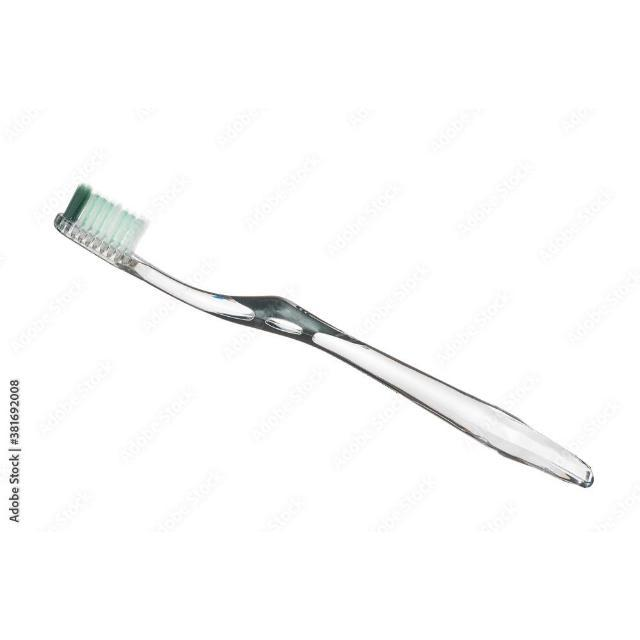toothbrush: (45, 168, 603, 512)
